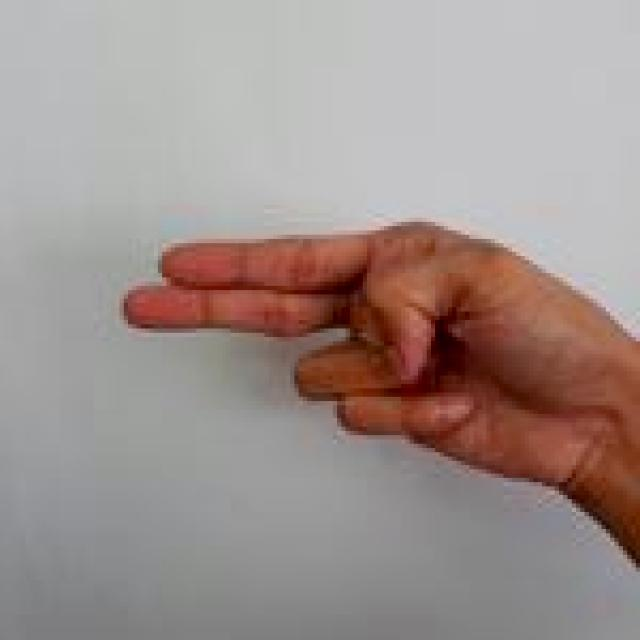H: (119, 212, 640, 584)
